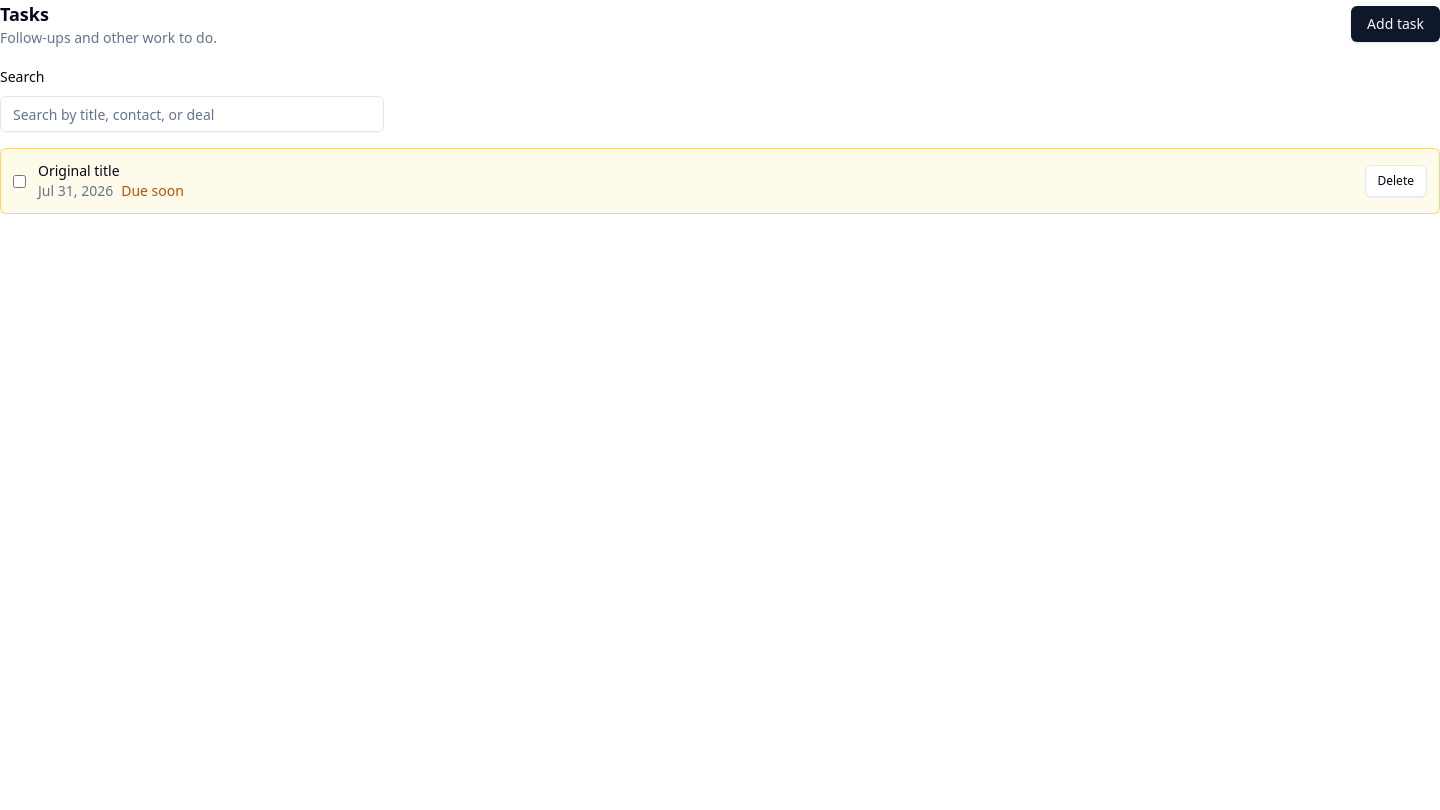
Test: TasksPage › edits an existing task
This screenshot has width=1440, height=810.
Click the button "Original title": [79, 171] box [38,161,120,181]
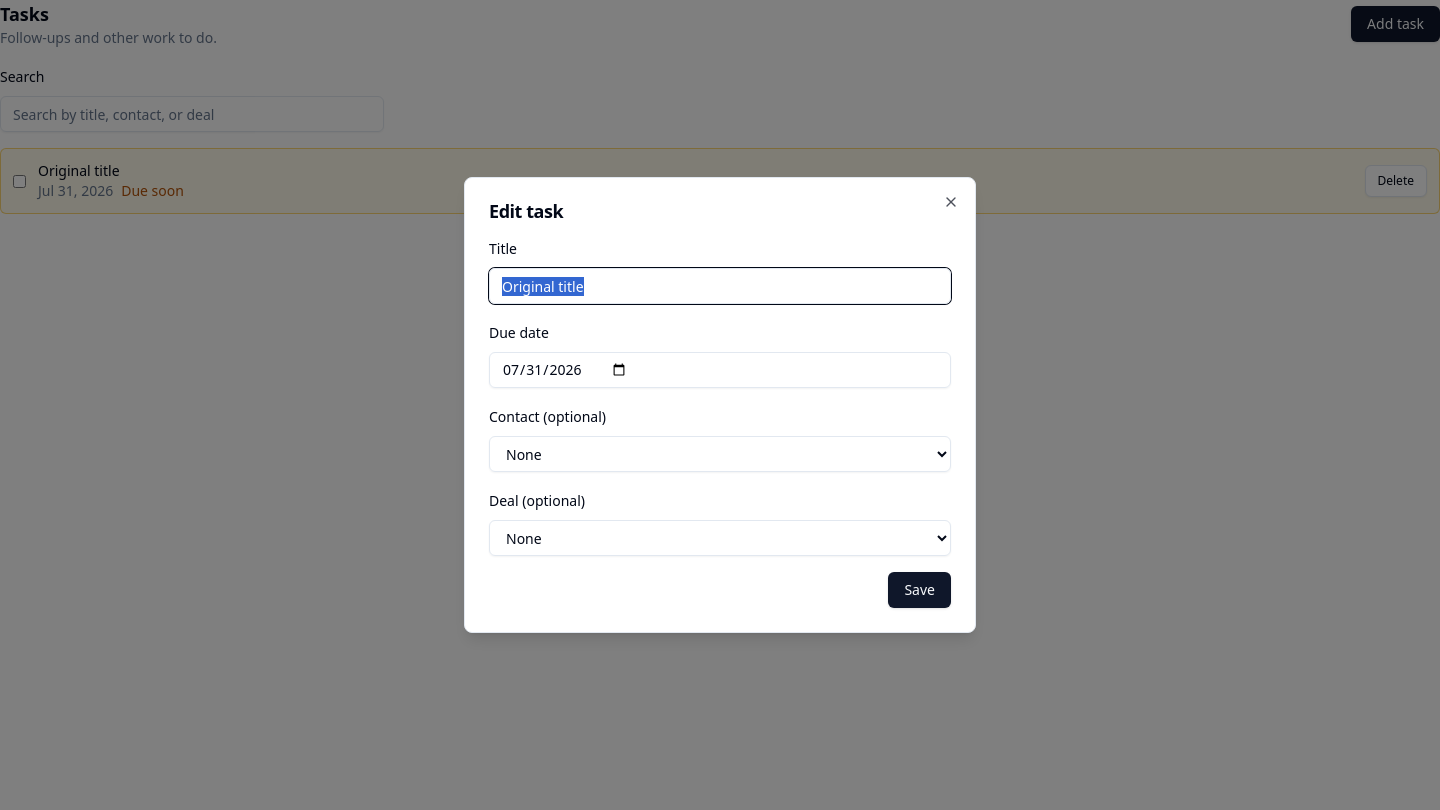
Replace the text in the field labelled "Title" with "Renamed task": [720, 286] box [489,268,951,304]
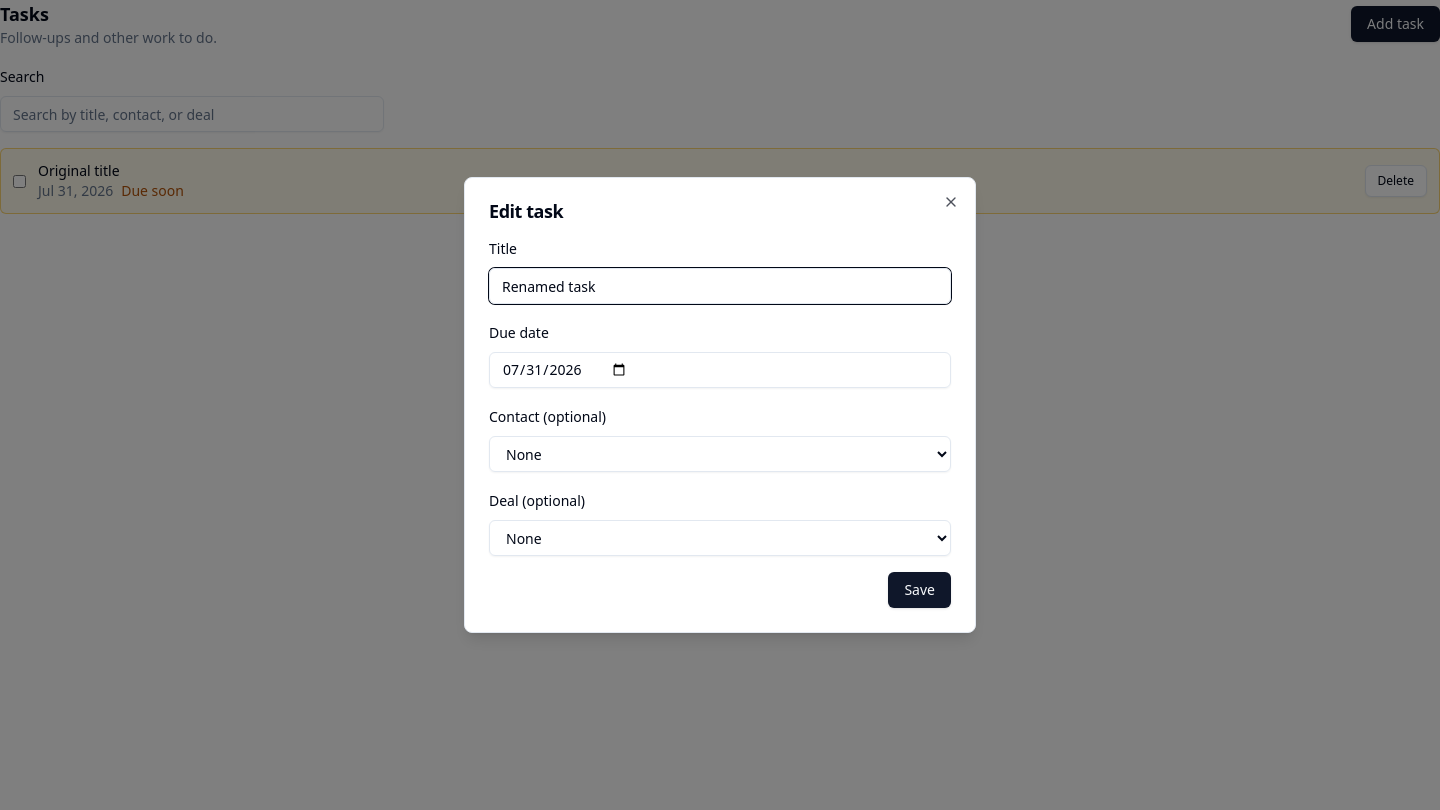
Click the button "Save": [920, 590] box [888,572,951,608]
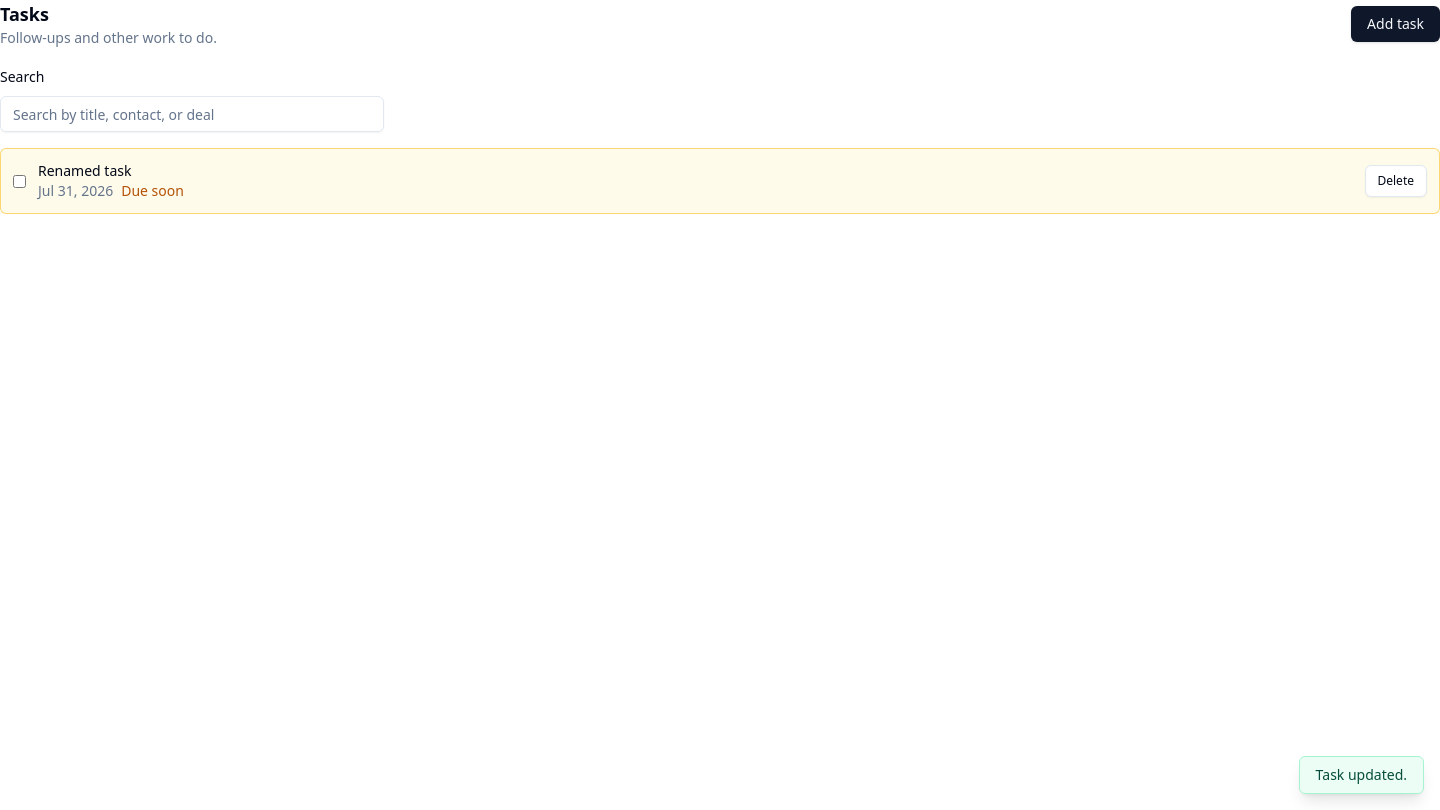
Now the button "Renamed task" is shown, box [38,161,131,181]
